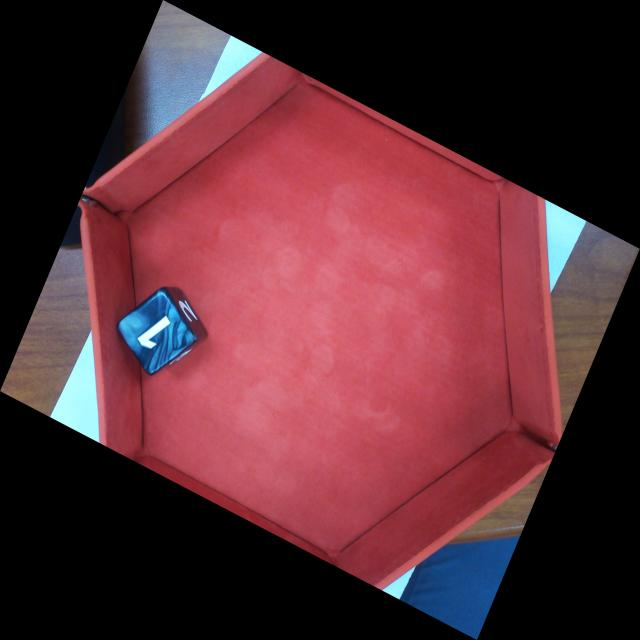dice: (119, 285, 195, 373)
